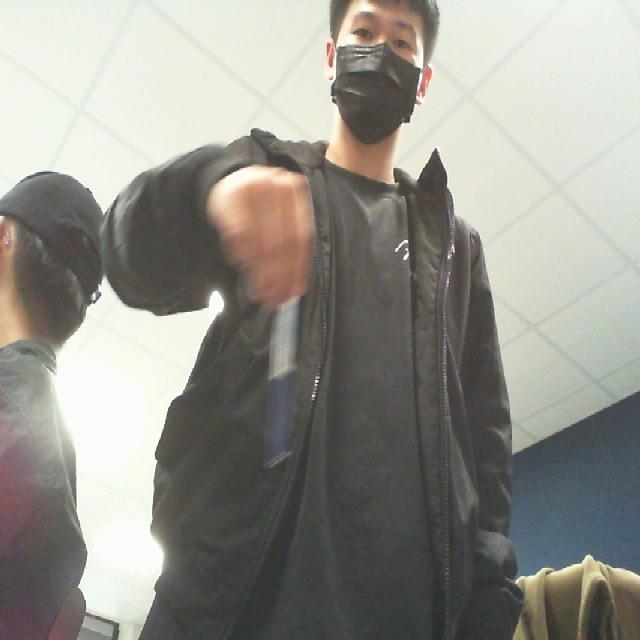Pen: (258, 301, 314, 493)
